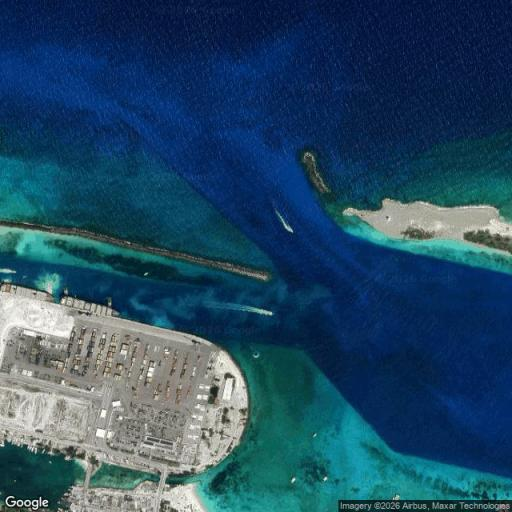ship: (196, 297, 281, 319), (58, 294, 121, 317), (1, 283, 55, 302), (30, 445, 36, 453), (41, 448, 47, 456), (142, 271, 150, 276), (57, 506, 65, 511), (28, 445, 33, 452), (34, 447, 37, 454), (28, 445, 29, 450)
